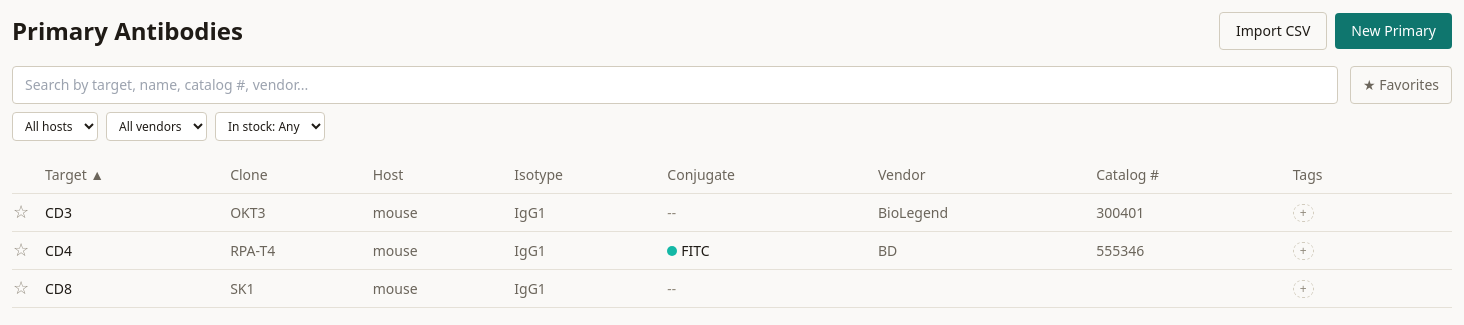
Test: AntibodyTable › search input filters rows by target name
Type "CD3" into the field with placeholder "Search by target, name, catalog #, vendor..." at (675, 85), box x1=12 y1=66 x2=1338 y2=104
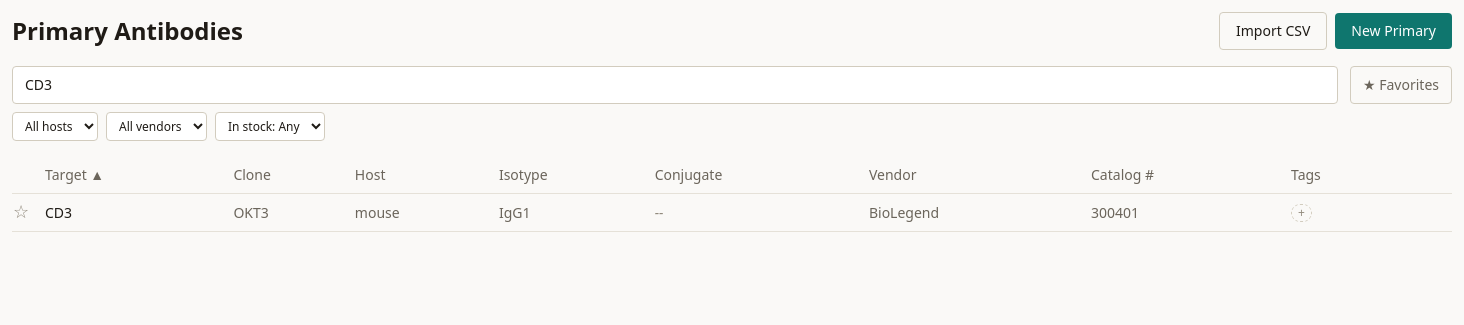
Expected: the text "CD3" is shown, x1=44 y1=194 x2=232 y2=232
Expected: the text "CD4" is gone
Expected: the text "CD8" is gone
